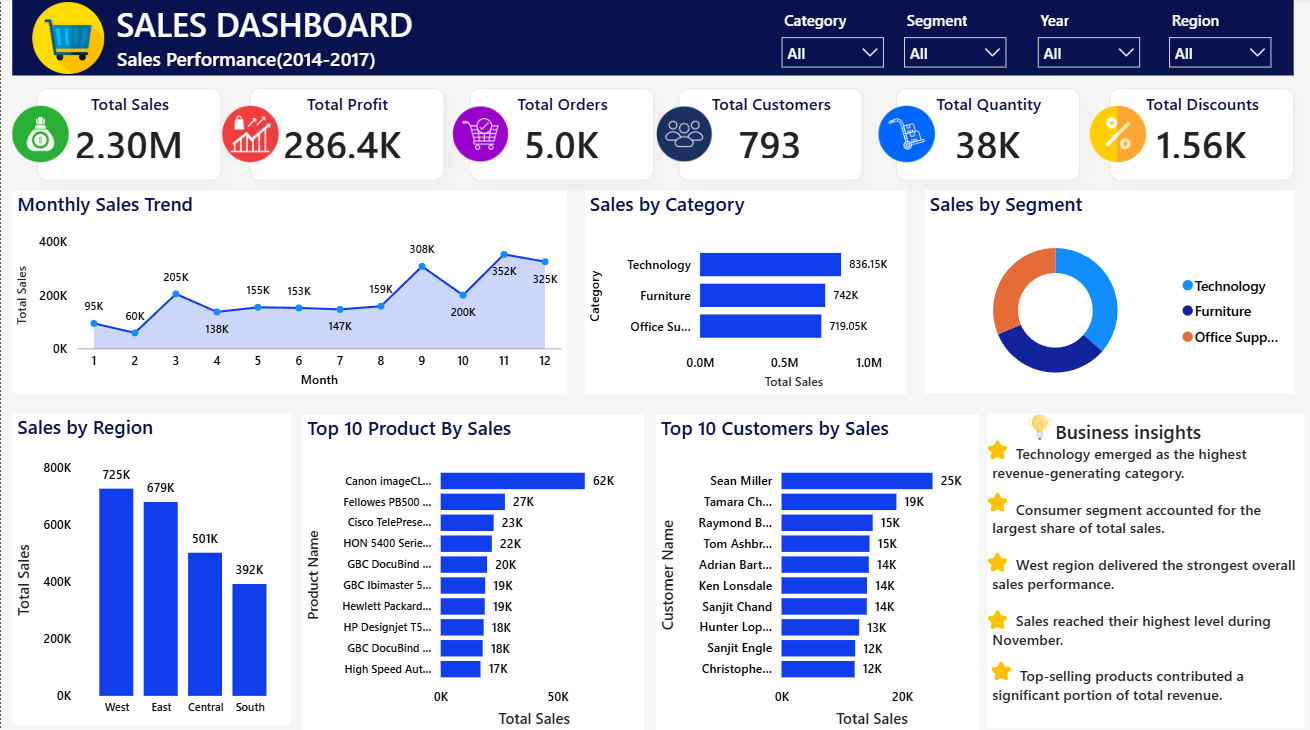

The dashboard page shown, as its layout file describes it:
{"tool":"powerbi","page":{"name":"Page 1","canvas":[1280,720],"ordinal":0},"visuals":[{"type":"cardVisual","title":"  Total Orders","fields":{"Data":["Sales_Data.Total Orders"]},"box":[458.8,89.5,180,90],"z":0},{"type":"cardVisual","title":"  Total Customers","fields":{"Data":["Sales_Data.Total Customers"]},"box":[662.2,89.5,180,90],"z":2000},{"type":"cardVisual","title":"  Total Quantity","fields":{"Data":["Sales_Data.Total Quantity"]},"box":[875.8,89.5,180,90],"z":3000},{"type":"cardVisual","title":"  Total Discounts","fields":{"Data":["Sales_Data.Total Discount"]},"box":[1084.7,89.3,180,90],"z":4000},{"type":"cardVisual","title":"  Total Profit","fields":{"Data":["Sales_Data.Total Profit"]},"box":[243.8,89.5,190,90],"z":5000},{"type":"cardVisual","title":"  Total Sales","fields":{"Data":["Sales_Data.Total Sales"]},"box":[36.1,89.5,180,90],"z":6000},{"type":"lineChart","title":"Monthly Sales Trend","fields":{"Category":["Sales_Data.Month No"],"Y":["Sales_Data.Total Sales"]},"box":[11.5,189,542.5,197.7],"z":8000},{"type":"clusteredBarChart","title":" Sales by Category","fields":{"Category":["Sales_Data.Category"],"Y":["Sales_Data.Total Sales"]},"box":[571.3,189,314.5,199.1],"z":9000},{"type":"donutChart","title":" Sales by Segment","fields":{"Category":["Sales_Data.Category"],"Y":["Sales_Data.Total Sales"]},"box":[903.7,189.5,362,198.1],"z":10000},{"type":"clusteredColumnChart","title":" Sales by Region","fields":{"Category":["Sales_Data.Region"],"Y":["Sales_Data.Total Sales"]},"box":[11,407.2,272.7,304.5],"z":11000},{"type":"clusteredBarChart","title":"Top 10 Product By Sales","fields":{"Category":["Sales_Data.Product Name"],"Y":["Sales_Data.Total Sales"]},"box":[294.3,408.3,334.7,311.6],"z":12000},{"type":"clusteredBarChart","title":"Top 10 Customers by Sales","fields":{"Category":["Sales_Data.Customer Name"],"Y":["Sales_Data.Total Sales"]},"box":[640.6,408.3,316,311.6],"z":13000},{"type":"textbox","box":[965.2,406.9,310,308],"z":14000},{"type":"textbox","box":[11.5,0,1253.8,77],"z":14003},{"type":"slicer","fields":{"Values":["Sales_Data.Category"]},"box":[753.1,7.2,120,70.7],"z":14004},{"type":"slicer","fields":{"Values":["Sales_Data.Segment"]},"box":[872.9,7.2,120,70.7],"z":14005},{"type":"slicer","fields":{"Values":["Sales_Data.Year"]},"box":[1004.2,7.2,120,70.7],"z":14006},{"type":"slicer","fields":{"Values":["Sales_Data.Region"]},"box":[1132.6,7.2,120,70.7],"z":14007},{"type":"image","box":[640.6,106.8,55,55],"z":14008},{"type":"image","box":[216.4,106.8,55,55],"z":14009},{"type":"image","box":[11.5,106.8,55,55],"z":14010},{"type":"image","box":[441.5,106.8,55,55],"z":14011},{"type":"image","box":[858.4,106.8,55,55],"z":14012},{"type":"image","box":[1064.8,106.8,55,55],"z":14013},{"type":"image","box":[965.2,432.8,20,20],"z":14015},{"type":"image","box":[965.2,484.8,20,20],"z":14016},{"type":"image","box":[965.2,542.5,20,20],"z":14017},{"type":"image","box":[965.2,598.7,20,20],"z":14018},{"type":"image","box":[968.1,649.2,20,20],"z":14019},{"type":"image","box":[1004.2,408.3,25,25],"z":14020},{"type":"image","box":[30.3,4.3,70,70],"z":14021}]}

Visuals, with their boxes in screenshot pixels (x1, y1, x2, y2), scaled from the page's 1280x720 canvas onto the 1310x730 screenshot:
"  Total Orders" cardVisual: x1=470, y1=91, x2=654, y2=182
"  Total Customers" cardVisual: x1=678, y1=91, x2=862, y2=182
"  Total Quantity" cardVisual: x1=896, y1=91, x2=1081, y2=182
"  Total Discounts" cardVisual: x1=1110, y1=91, x2=1294, y2=182
"  Total Profit" cardVisual: x1=250, y1=91, x2=444, y2=182
"  Total Sales" cardVisual: x1=37, y1=91, x2=221, y2=182
"Monthly Sales Trend" lineChart: x1=12, y1=192, x2=567, y2=392
" Sales by Category" clusteredBarChart: x1=585, y1=192, x2=907, y2=393
" Sales by Segment" donutChart: x1=925, y1=192, x2=1295, y2=393
" Sales by Region" clusteredColumnChart: x1=11, y1=413, x2=290, y2=722
"Top 10 Product By Sales" clusteredBarChart: x1=301, y1=414, x2=644, y2=729
"Top 10 Customers by Sales" clusteredBarChart: x1=656, y1=414, x2=979, y2=729
textbox: x1=988, y1=413, x2=1305, y2=725
textbox: x1=12, y1=0, x2=1295, y2=78
slicer - Sales_Data.Category: x1=771, y1=7, x2=894, y2=79
slicer - Sales_Data.Segment: x1=893, y1=7, x2=1016, y2=79
slicer - Sales_Data.Year: x1=1028, y1=7, x2=1151, y2=79
slicer - Sales_Data.Region: x1=1159, y1=7, x2=1282, y2=79
image: x1=656, y1=108, x2=712, y2=164
image: x1=221, y1=108, x2=278, y2=164
image: x1=12, y1=108, x2=68, y2=164
image: x1=452, y1=108, x2=508, y2=164
image: x1=879, y1=108, x2=935, y2=164
image: x1=1090, y1=108, x2=1146, y2=164
image: x1=988, y1=439, x2=1008, y2=459
image: x1=988, y1=492, x2=1008, y2=512
image: x1=988, y1=550, x2=1008, y2=570
image: x1=988, y1=607, x2=1008, y2=627
image: x1=991, y1=658, x2=1011, y2=678
image: x1=1028, y1=414, x2=1053, y2=439
image: x1=31, y1=4, x2=103, y2=75
